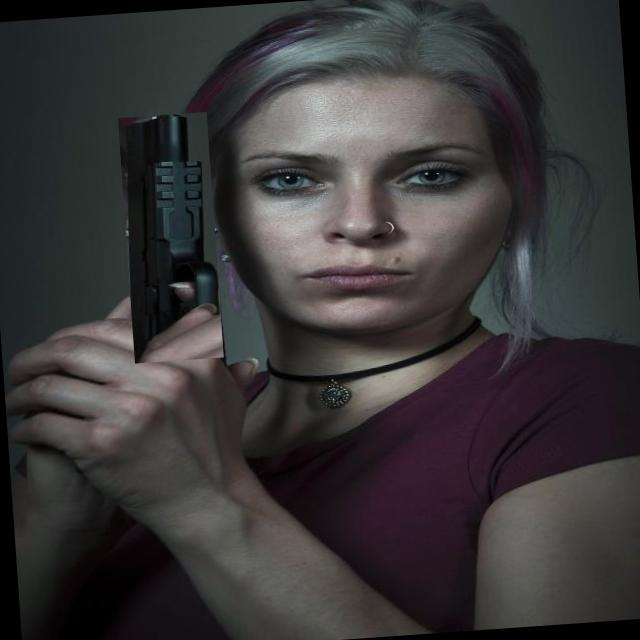Gun: (128, 115, 218, 363)
